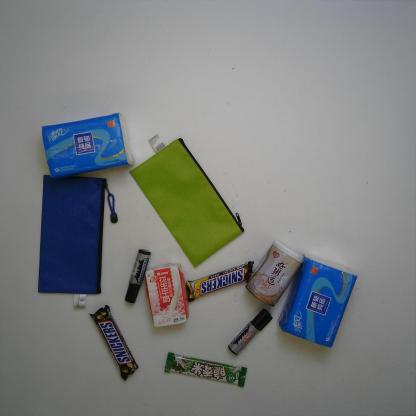Canned Food: (244, 238, 305, 308)
Chocolate: (88, 304, 141, 382), (162, 351, 248, 389), (185, 260, 255, 303)
Milk: (143, 261, 191, 329)
Stationery: (129, 131, 245, 269), (36, 173, 121, 309), (227, 307, 273, 357), (124, 248, 151, 304)
Tissue: (275, 252, 359, 350), (38, 110, 136, 180)
